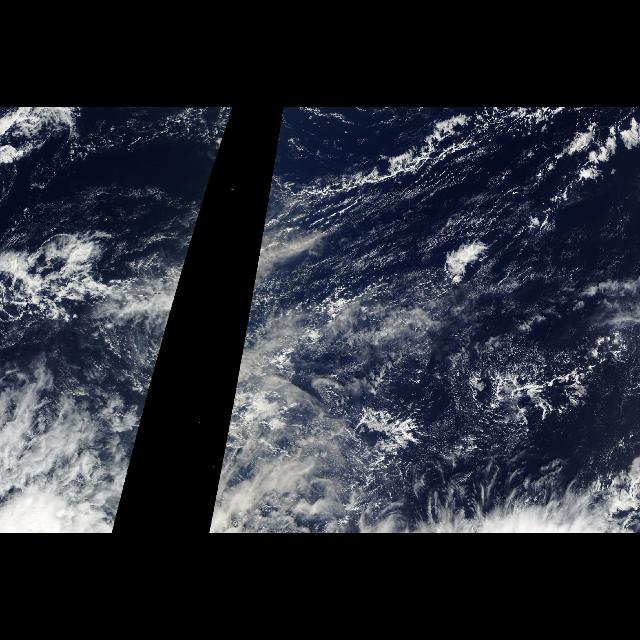Fish: (430, 307, 628, 457)
Sugar: (301, 195, 441, 317)
